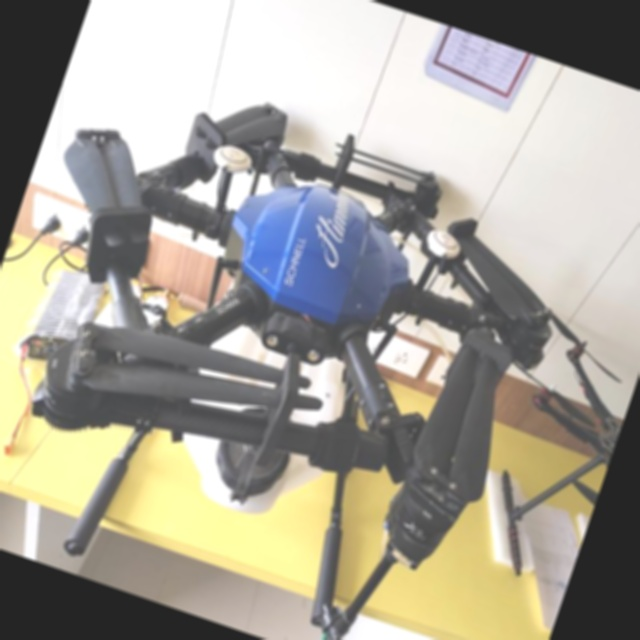agriculturedrone: (0, 26, 640, 640)
